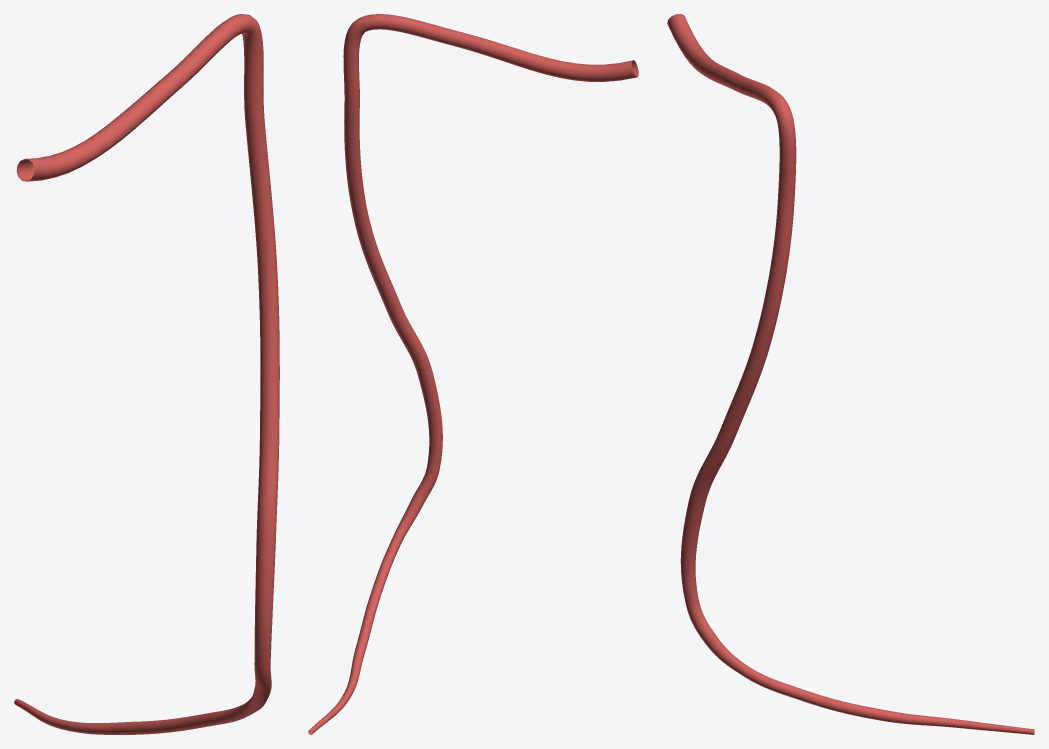
3 views of the same model, side by side, from view 1: azimuth 30°, elevation 25°; view 2: azimuth 150°, elevation 25°; view 3: azimuth 270°, elevation 25° (orthographic). The views are drawn at different scales.
Visible parts, largest first — view 1: 右侧筛前动脉; view 2: 右侧筛前动脉; view 3: 右侧筛前动脉.
Boxes of the visible parts, x1,y1,x2,y2 form: 右侧筛前动脉: (14,14,279,734); 右侧筛前动脉: (308,14,638,734); 右侧筛前动脉: (667,14,1034,734).
Bounding box in the file's own units: 0.016 × 0.0387 × 0.0193.
